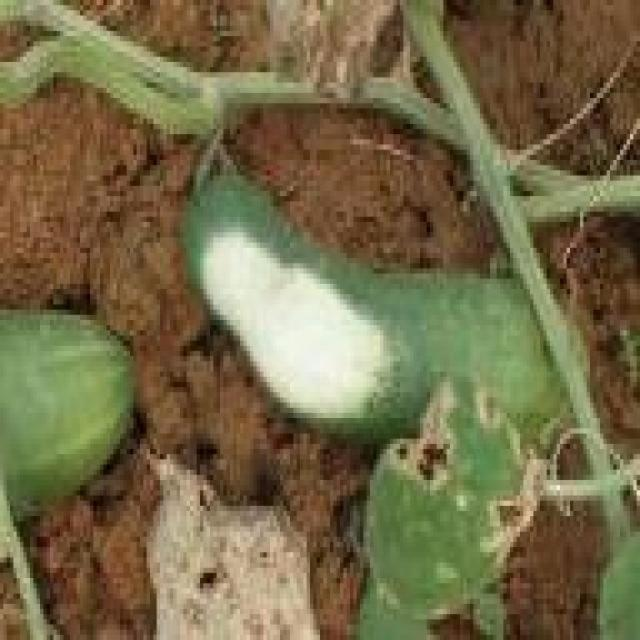Sunscald Fruit: (117, 144, 268, 303)
